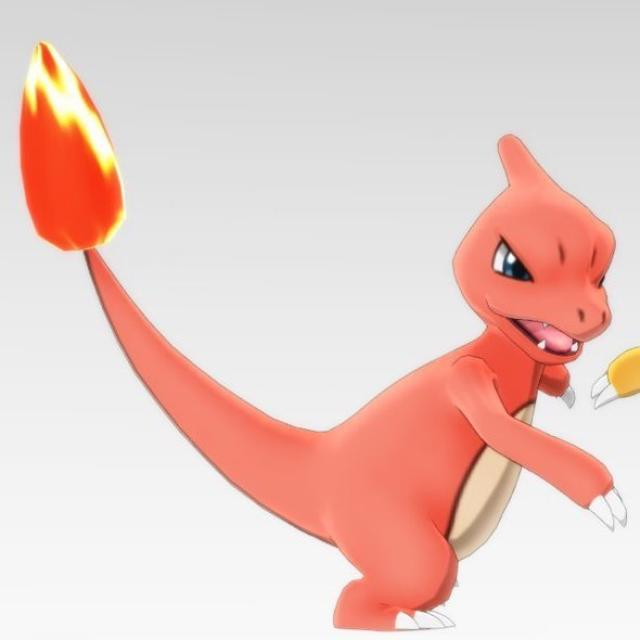Charmeleon: (276, 139, 616, 630)
